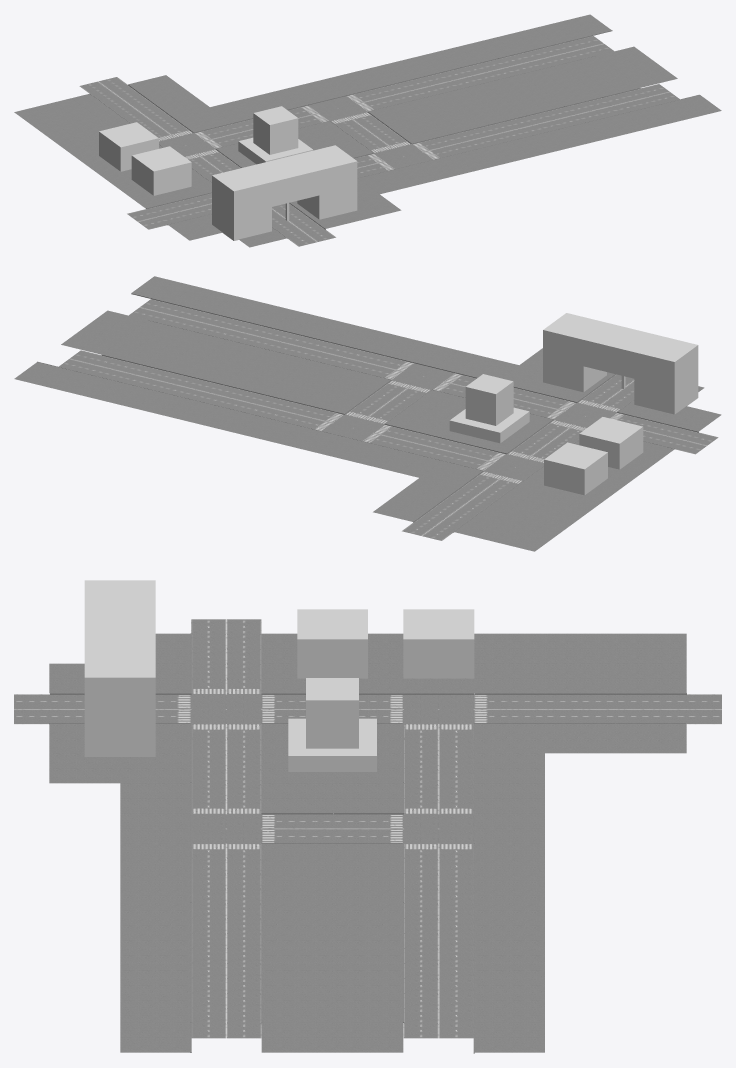
File: city.gltf
The picture shows the model from 3 angles, top to bottom: view 1: azimuth 30°, elevation 25°; view 2: azimuth 150°, elevation 25°; view 3: azimuth 270°, elevation 25°; orthographic projection. The views are drawn at different scales.
Parts seen in each view (by area): view 1: Plane.109, Plane.027, Plane.025, Plane.026, Plane.039, Plane.047, Plane.048, Plane.044, Plane.056, Plane.060, Plane.061, Plane.045 (+36 smaller); view 2: Plane.109, Plane.027, Plane.025, Plane.039, Plane.026, Plane.038, Plane.047, Plane.048, Plane.067, Plane.044, Plane.066, Plane.041 (+43 smaller); view 3: Plane.109, Plane.027, Plane.025, Plane.039, Plane.026, Plane.048, Plane.045, Plane.002, Plane.038, Plane.042, Plane.047, Plane.060 (+53 smaller).
Boxes of the visible parts, x1,y1,x2,y2 form: Plane.109: [324, 14, 721, 175]; Plane.027: [212, 145, 357, 240]; Plane.025: [238, 106, 313, 164]; Plane.026: [131, 146, 191, 195]; Plane.039: [99, 122, 158, 171]; Plane.047: [36, 119, 95, 144]; Plane.048: [14, 103, 73, 127]; Plane.044: [52, 93, 111, 118]; Plane.056: [308, 96, 367, 120]; Plane.060: [358, 169, 416, 194]; Plane.061: [396, 160, 455, 184]; Plane.045: [129, 75, 187, 100]; Plane.109: [14, 276, 437, 448]; Plane.027: [543, 313, 698, 414]; Plane.025: [449, 374, 529, 443]; Plane.039: [544, 442, 607, 495]; Plane.026: [579, 417, 643, 469]; Plane.038: [541, 490, 604, 517]; Plane.047: [518, 507, 581, 534]; Plane.048: [494, 525, 557, 551]; Plane.067: [298, 431, 361, 457]; Plane.044: [454, 515, 517, 541]; Plane.066: [338, 441, 401, 467]; Plane.041: [478, 498, 540, 524]; Plane.109: [120, 842, 544, 1053]; Plane.027: [84, 580, 155, 756]; Plane.025: [288, 678, 376, 771]; Plane.039: [403, 609, 474, 678]; Plane.026: [297, 609, 367, 678]; Plane.048: [615, 633, 686, 663]; Plane.045: [615, 723, 686, 753]; Plane.002: [403, 694, 474, 724]; Plane.038: [474, 633, 544, 663]; Plane.042: [545, 723, 615, 753]; Plane.047: [545, 633, 615, 663]; Plane.060: [120, 783, 190, 813].
Size of the model in its own units: 232 by 20 by 160.
4 materials, 4 textured.
